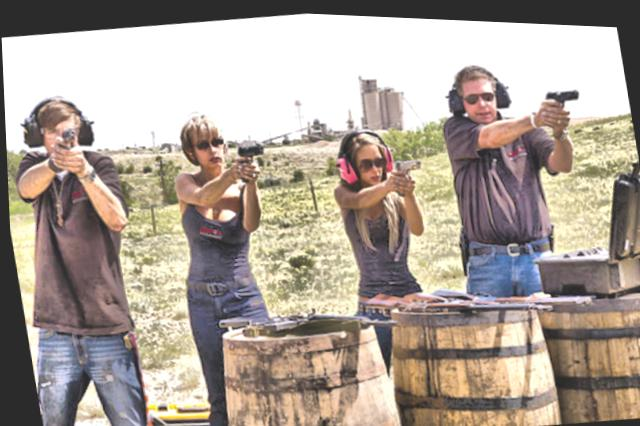pistol: (541, 81, 582, 118), (387, 153, 422, 195), (232, 141, 265, 174), (52, 125, 78, 157)
